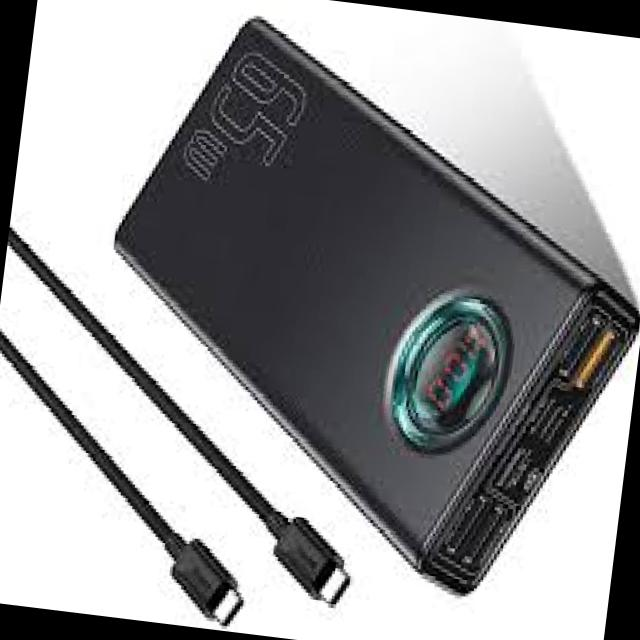portable-charger: (67, 0, 640, 618)
